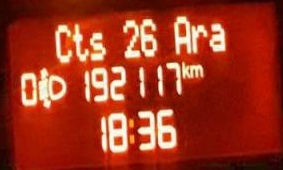0: (18, 70, 36, 105)
1: (97, 112, 107, 157), (136, 63, 146, 103), (153, 61, 163, 98), (81, 65, 90, 102)
2: (121, 16, 141, 57), (107, 64, 126, 102)
3: (135, 105, 155, 151)
6: (156, 105, 176, 151), (141, 15, 157, 56)
7: (166, 59, 180, 98)
8: (107, 110, 126, 152)
9: (90, 64, 107, 101)
X: (172, 13, 191, 54), (53, 22, 72, 62), (71, 23, 87, 62), (189, 22, 208, 53), (210, 20, 225, 52), (89, 30, 105, 60), (127, 114, 135, 147), (179, 59, 190, 78), (190, 62, 202, 79)
